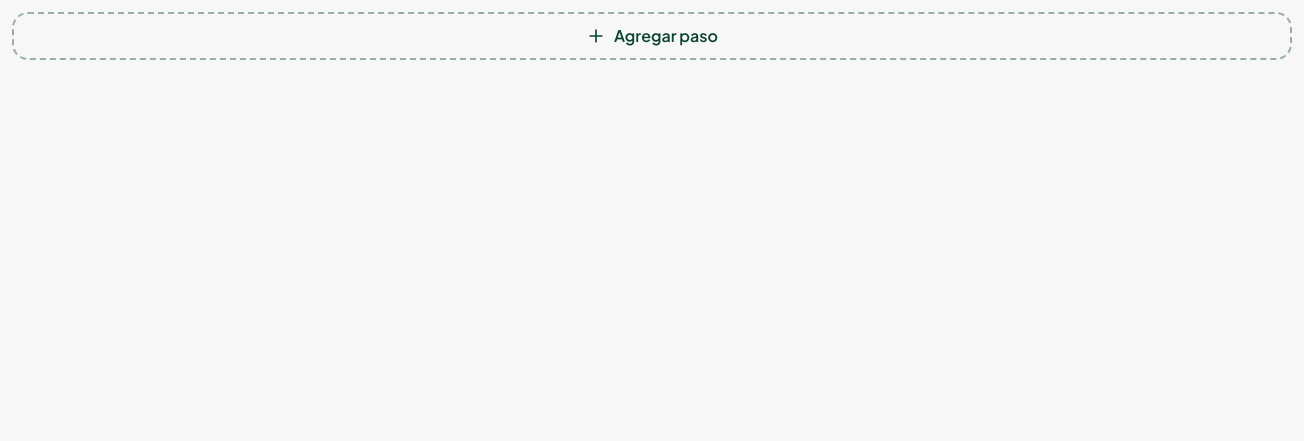
Test case: adding a step › 409 STEP_LIMIT_REACHED → the draft has 50 steps, and what was typed stays
The image size is (1304, 441).
Click the button "Agregar paso". click: (652, 36)
box: [12,12,1292,60]
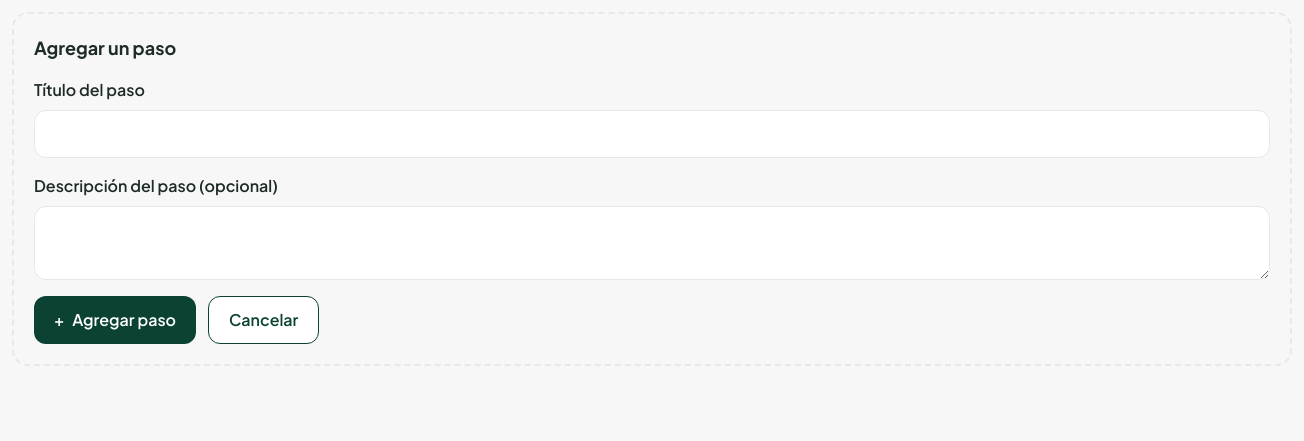
Type "Contar el efectivo" into the field labelled "Título del paso". click: (652, 134)
box: [34,110,1270,158]
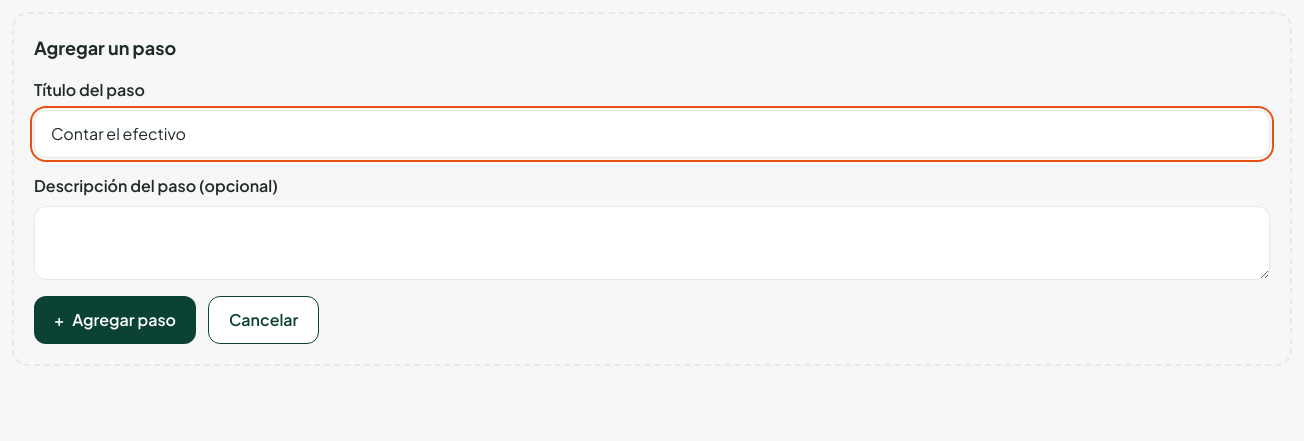
Click the button "+ Agregar paso". click: (115, 320)
box: [34,296,196,344]
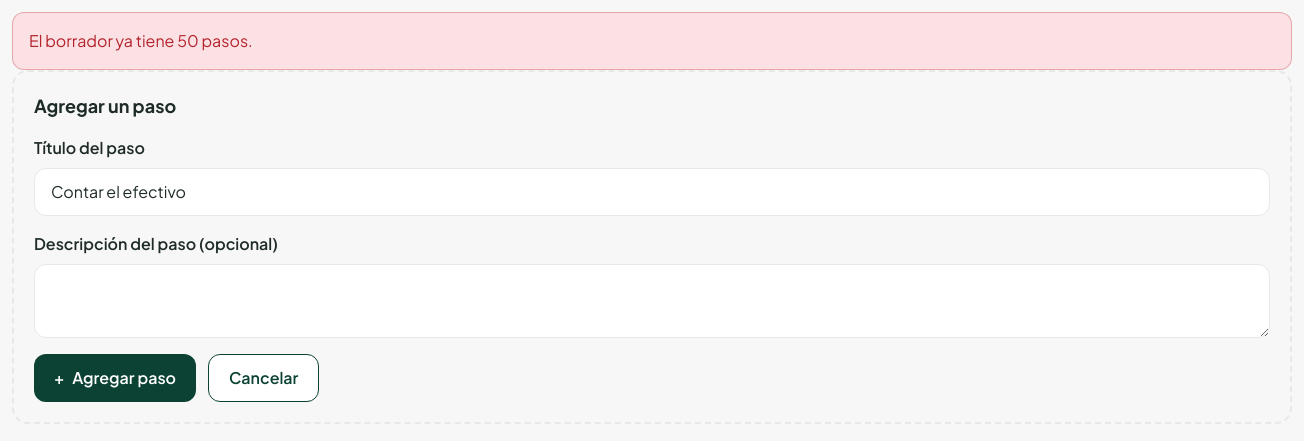
Check: the message reads "El borrador ya tiene 50 pasos.", box [29,30,253,51]
